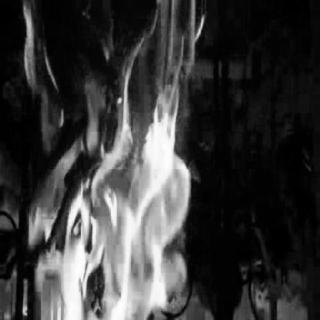Fire: (13, 4, 207, 320)
